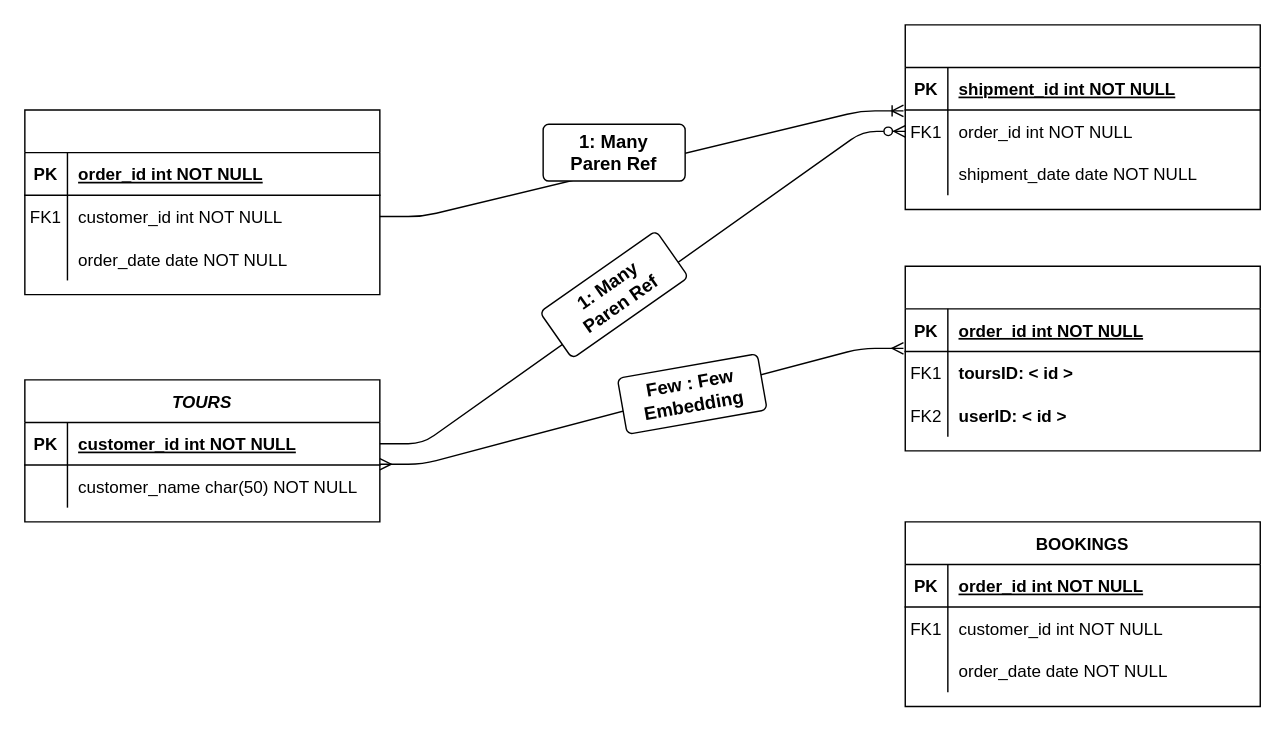
Image size: 1285x731. Some labels were removed from this diagram. The shapes that lost their labels are listed below. From the top down, each one's box as (x1, y1, x2, y2) in pixels, then its label:
(904, 23, 1260, 209): REVIEWS
(23, 109, 380, 295): USERS
(904, 265, 1260, 451): LOCATIONS
